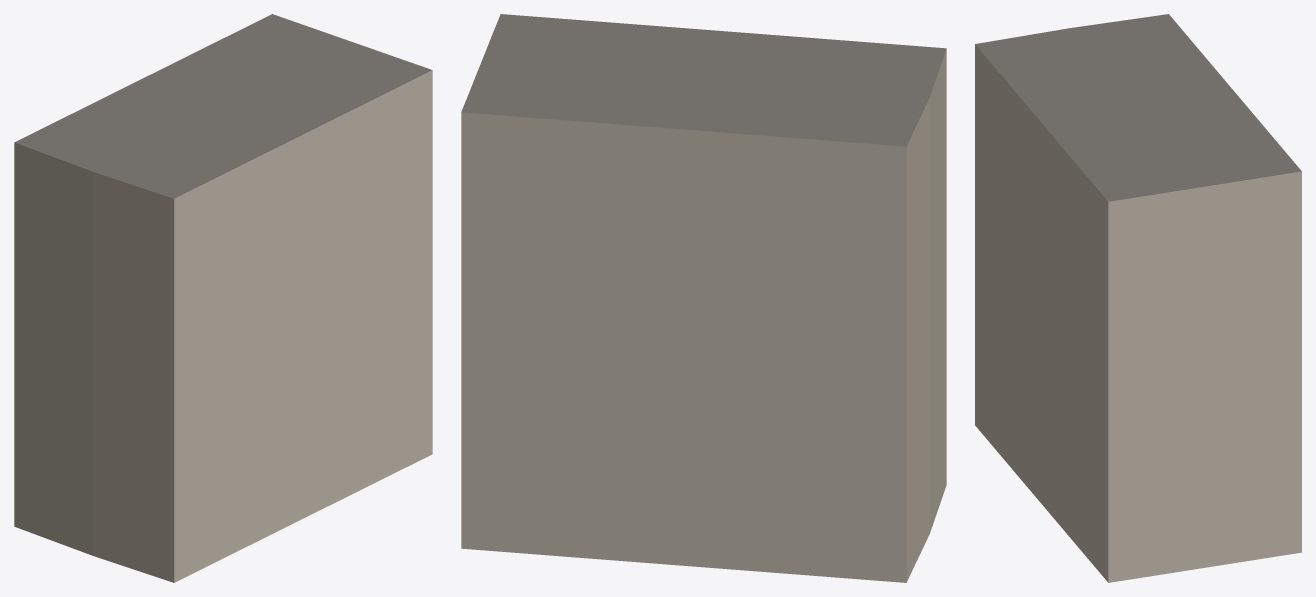
The picture shows the model from 3 angles, left to right: view 1: azimuth 30°, elevation 25°; view 2: azimuth 150°, elevation 25°; view 3: azimuth 270°, elevation 25°; orthographic projection. The views are drawn at different scales.
Visible parts, largest first — view 1: HP-w1196773007; view 2: HP-w1196773007; view 3: HP-w1196773007.
Boxes of the visible parts, bbox=[...] form: HP-w1196773007: bbox=[14, 14, 432, 582]; HP-w1196773007: bbox=[461, 14, 946, 582]; HP-w1196773007: bbox=[975, 14, 1301, 582].
Size of the model in its own units: 19.02 by 18 by 13.99.
